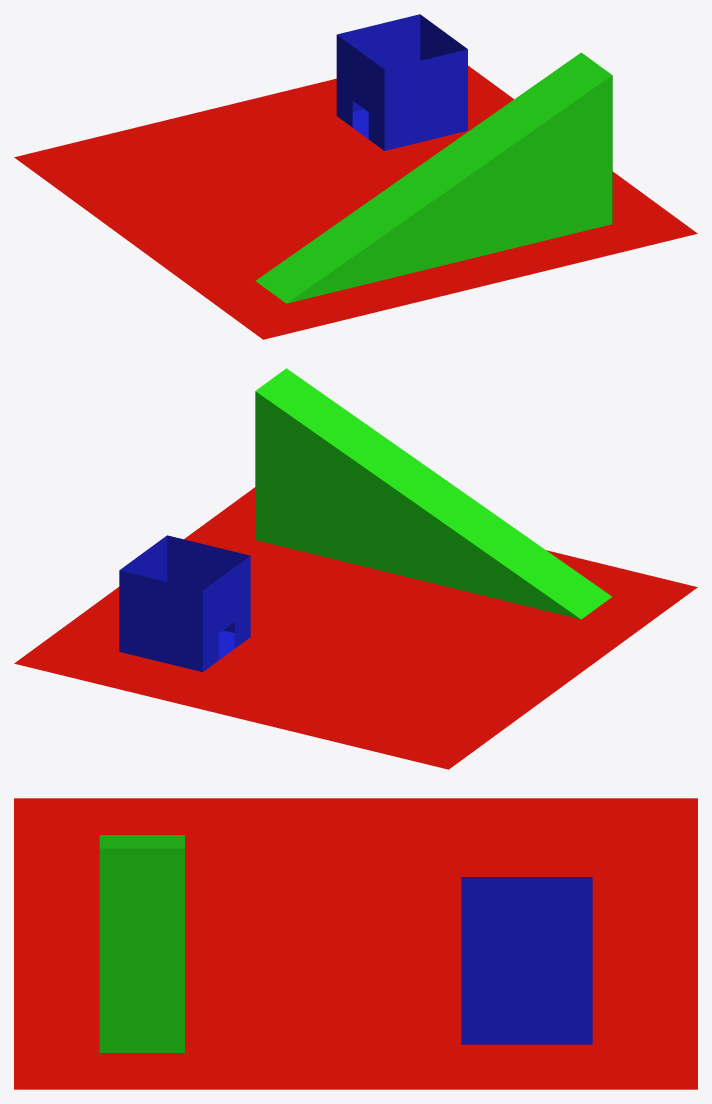
The model's file is level2.glb.
3 views of the same model, one above another, from view 1: azimuth 30°, elevation 25°; view 2: azimuth 150°, elevation 25°; view 3: azimuth 270°, elevation 25° (orthographic). The views are drawn at different scales.
Parts seen in each view (by area): view 1: Plane; view 2: Plane; view 3: Plane.
Part boxes in pixels (box(x1,y1,x2,y2)): Plane: box(14, 14, 697, 339); Plane: box(14, 368, 697, 769); Plane: box(14, 798, 697, 1089).
Size of the model in its own units: 67.37 by 22.06 by 66.9.
